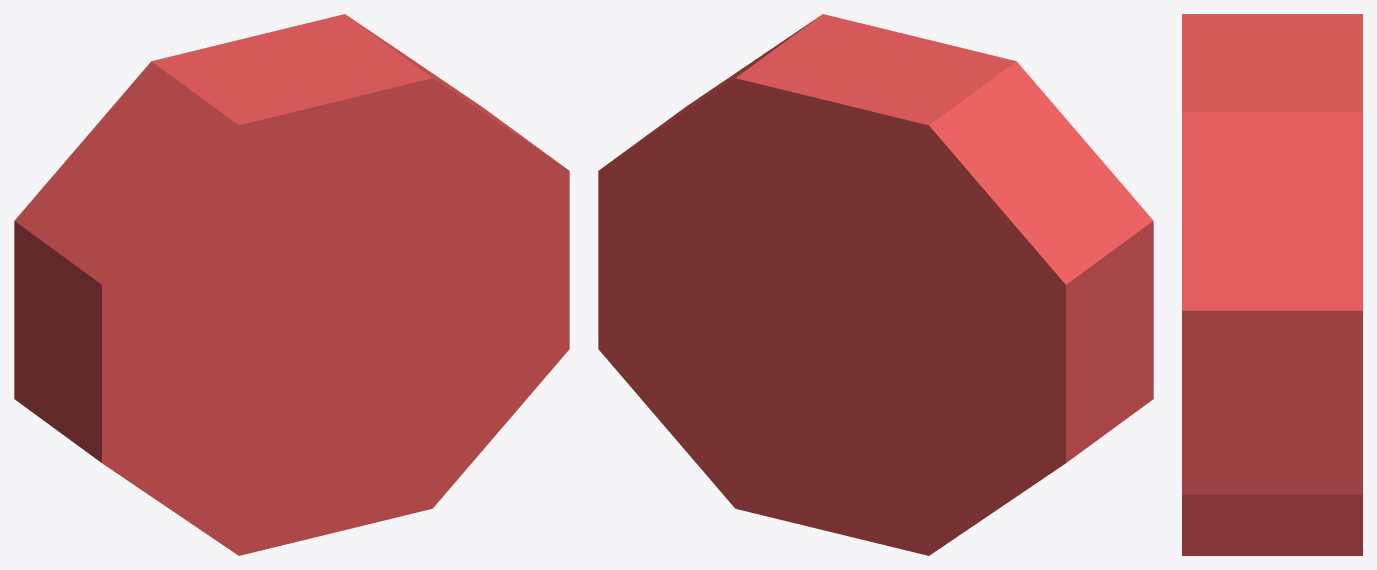
File: knob.glb
3 views of the same model, side by side, from view 1: azimuth 30°, elevation 25°; view 2: azimuth 150°, elevation 25°; view 3: azimuth 270°, elevation 25° (orthographic). The views are drawn at different scales.
Visible parts, largest first — view 1: KnobF; view 2: KnobF; view 3: KnobF.
Part boxes in pixels (<box>): KnobF: <box>14,14,569,555</box>; KnobF: <box>598,14,1153,555</box>; KnobF: <box>1182,14,1362,555</box>.
Bounding box in the file's own units: 1.29 × 1.14 × 0.42.
